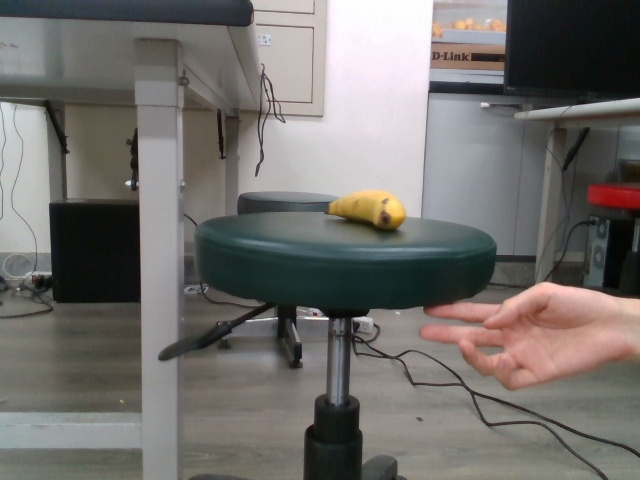banana: (323, 187, 408, 231)
